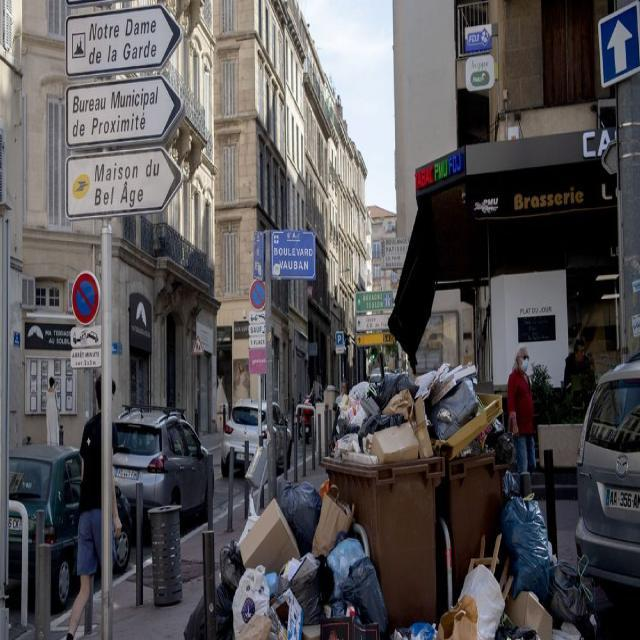Trashbag: (502, 492, 556, 597), (279, 473, 322, 547), (350, 562, 390, 627)
